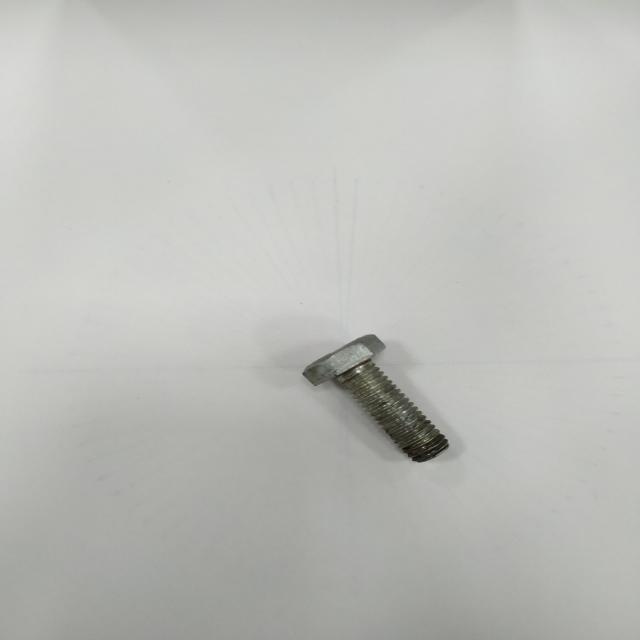Bolt: (303, 335, 448, 462)
